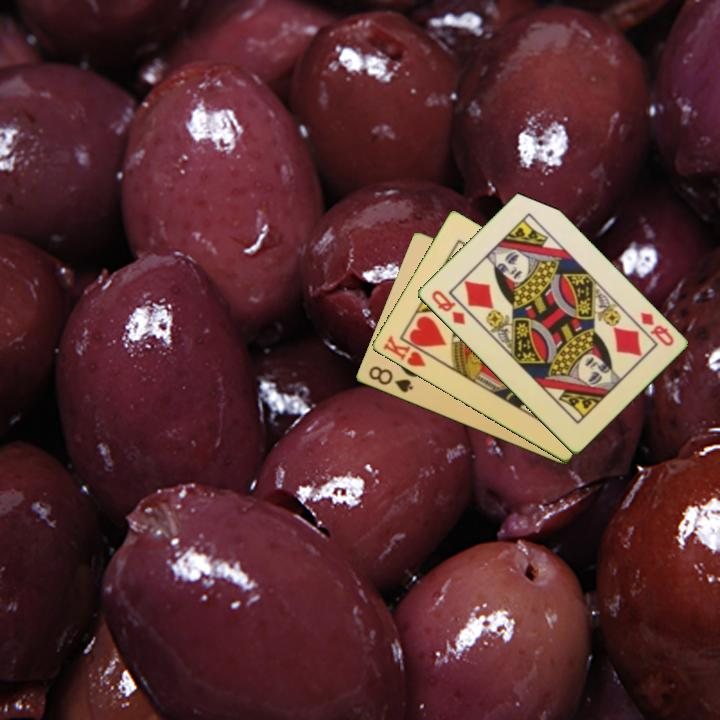8s: (365, 362, 416, 396)
Kh: (379, 331, 435, 370)
Qd: (427, 286, 468, 328), (636, 308, 677, 350)
